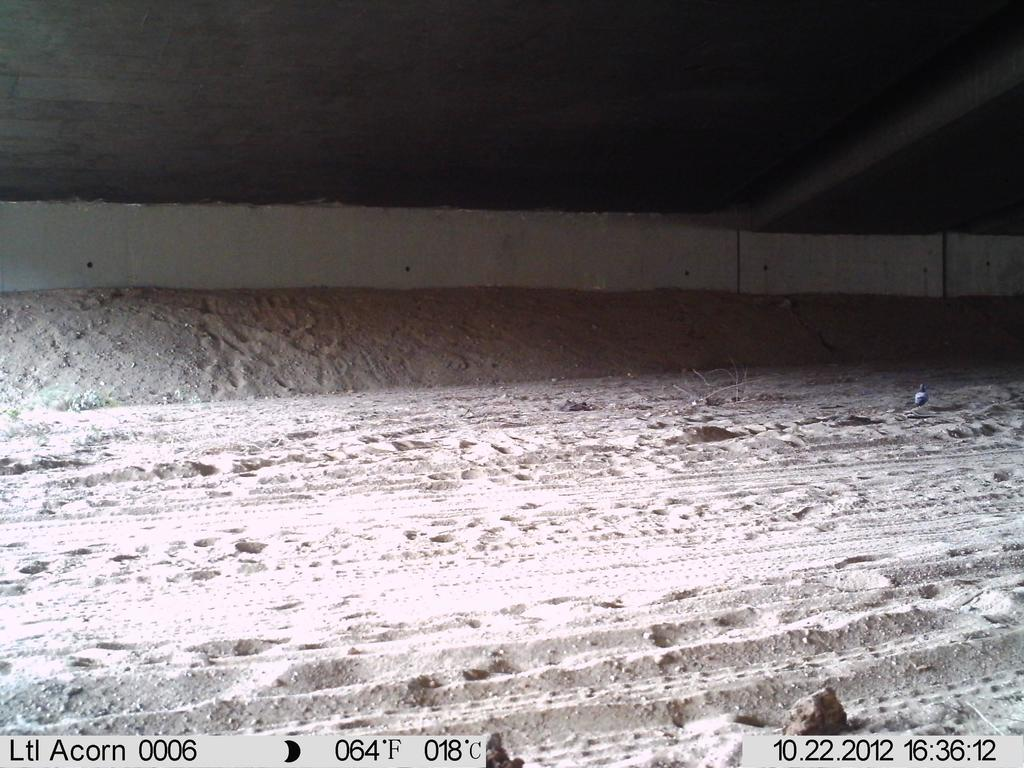bird: (912, 382, 939, 413)
